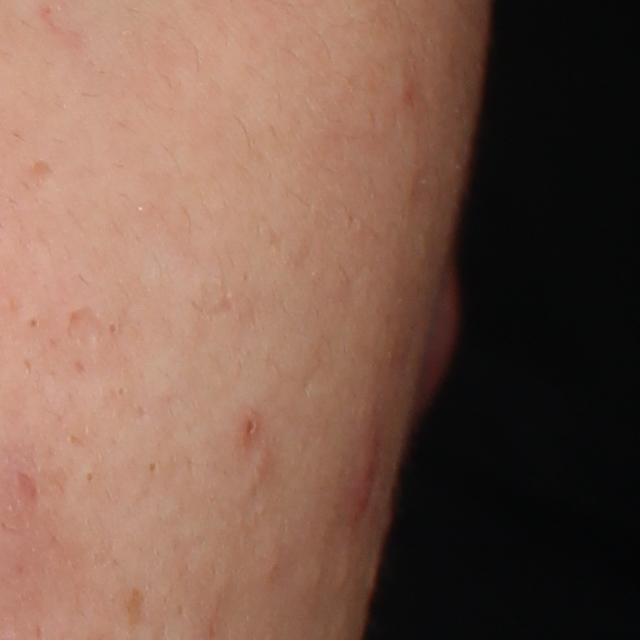atrophic_scar: (63, 303, 112, 348), (21, 151, 58, 188), (13, 467, 41, 505)
comedo: (104, 319, 121, 336)
papule: (344, 434, 382, 518), (237, 412, 264, 440)
